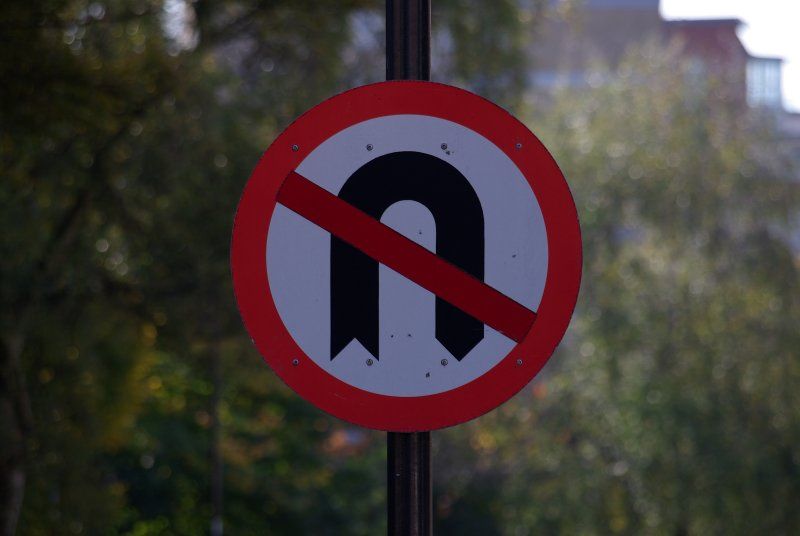No_u_turn: (231, 78, 582, 432)
